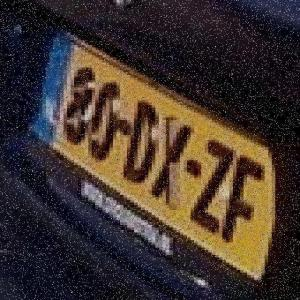Plate: (13, 16, 287, 276)
